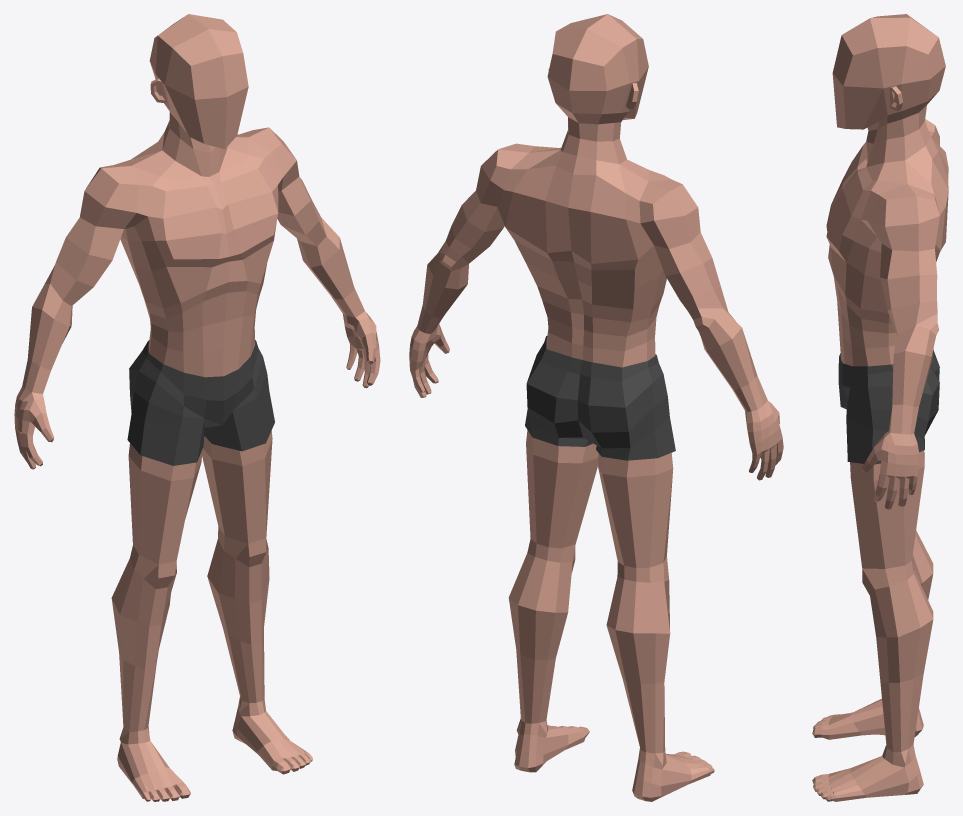
Rendered from blendkit-man.glb.
The picture shows the model from 3 angles, left to right: view 1: azimuth 30°, elevation 25°; view 2: azimuth 150°, elevation 25°; view 3: azimuth 270°, elevation 25°; orthographic projection. The views are drawn at different scales.
Parts seen in each view (by area): view 1: Low poly man; view 2: Low poly man; view 3: Low poly man.
Part boxes in pixels (x1,y1,x2,y2): Low poly man: (14,14,380,801); Low poly man: (409,14,783,801); Low poly man: (812,14,948,801).
Size of the model in its own units: 0.883 by 1.74 by 0.2897.
2 materials, 2 textured.
